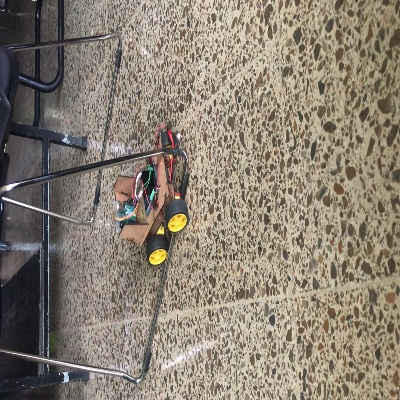Robot: (113, 131, 187, 264)
